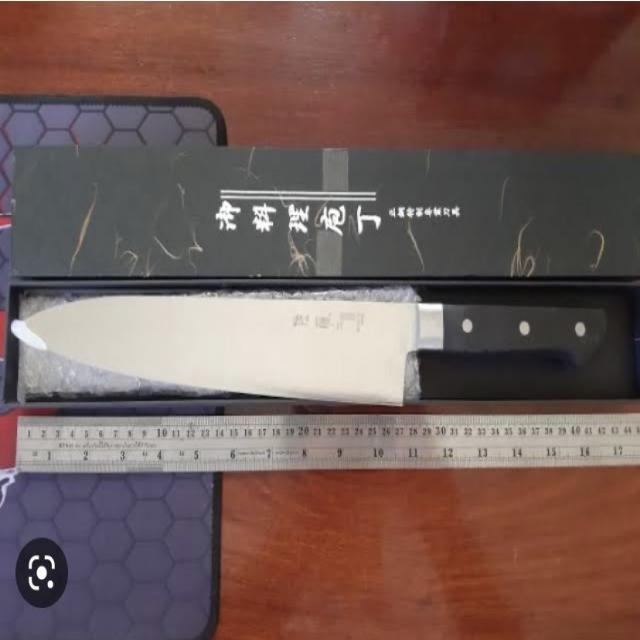Knife: (10, 291, 615, 411)
